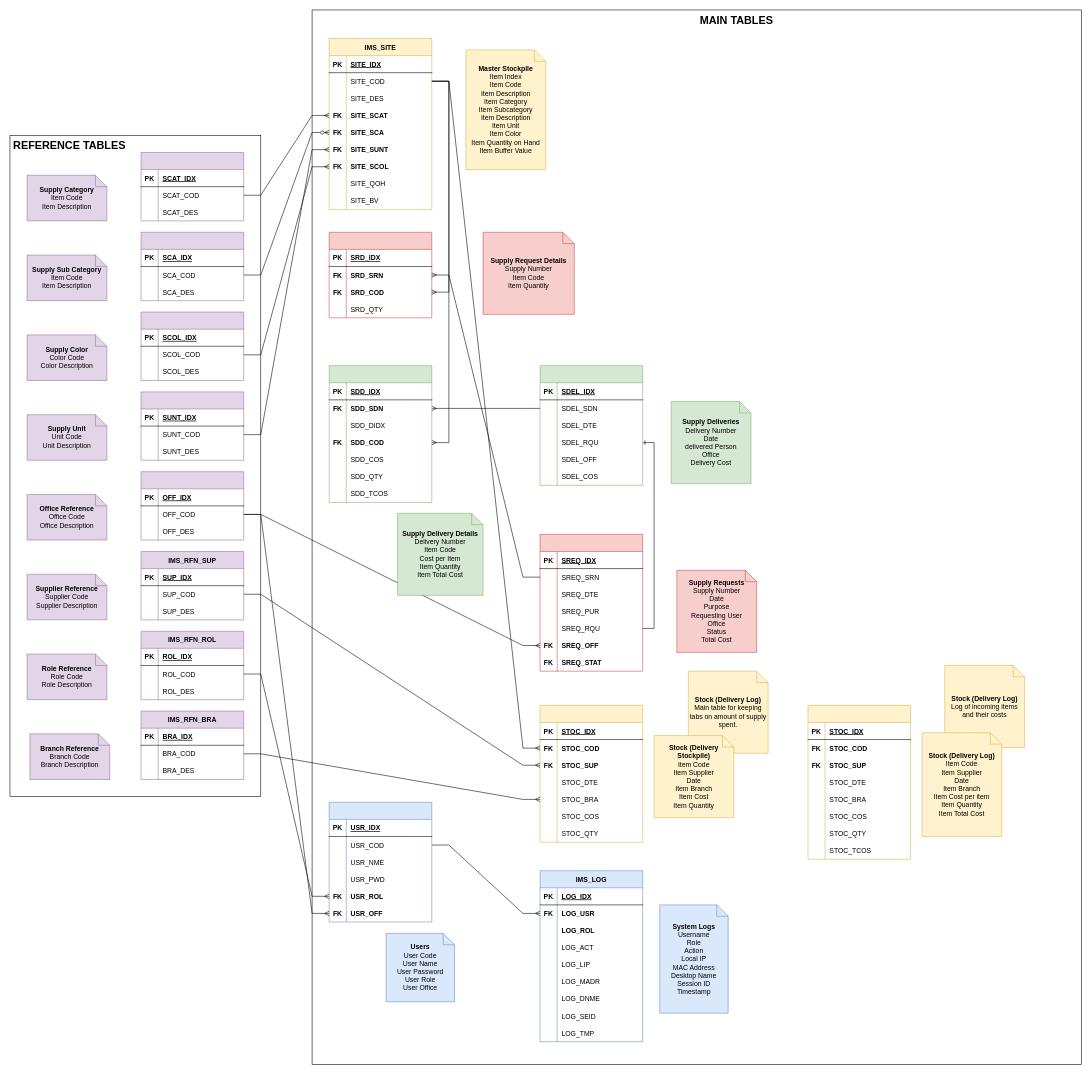
The diagram is 1092 pixels wide and 1074 high, and some of its shapes have lost their labels. Each missing label, with the box of its shape:
IMS_RFN_OFF: (141, 471, 244, 540)
IMS_RFN_SCA: (141, 232, 244, 301)
IMS_RFN_SCAT: (141, 152, 244, 221)
IMS_RFN_SCOL: (141, 312, 244, 380)
IMS_RFN_SUNT: (141, 391, 244, 460)
IMS_SDD: (329, 365, 432, 502)
IMS_SDEL: (540, 365, 643, 485)
IMS_SRD: (329, 232, 432, 318)
IMS_SREQ: (540, 534, 643, 671)
IMS_STOC: (540, 705, 643, 842)
IMS_STOC_LOG: (807, 705, 911, 859)
IMS_USR: (329, 802, 432, 922)
